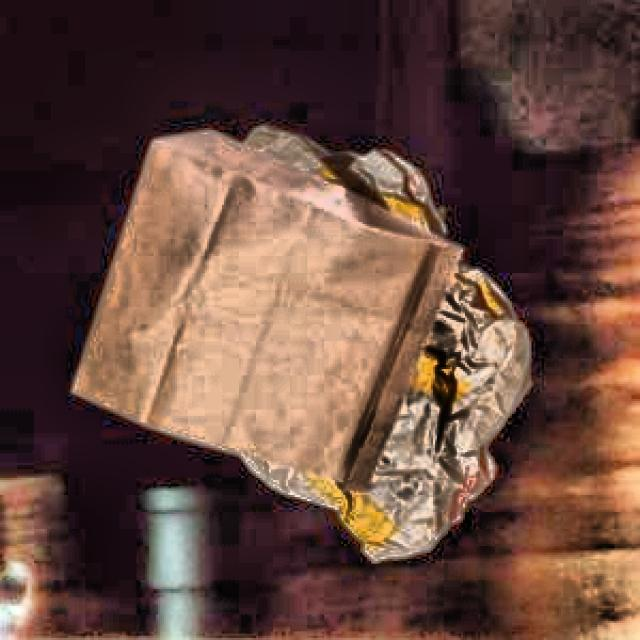Paper-bag: (168, 122, 530, 572), (61, 119, 468, 494)
